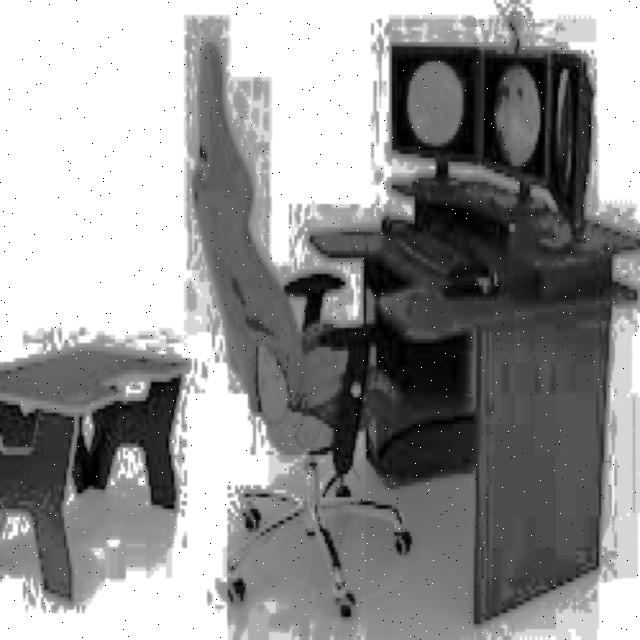book: (190, 38, 412, 617)
table: (307, 200, 640, 624), (0, 343, 187, 602)
